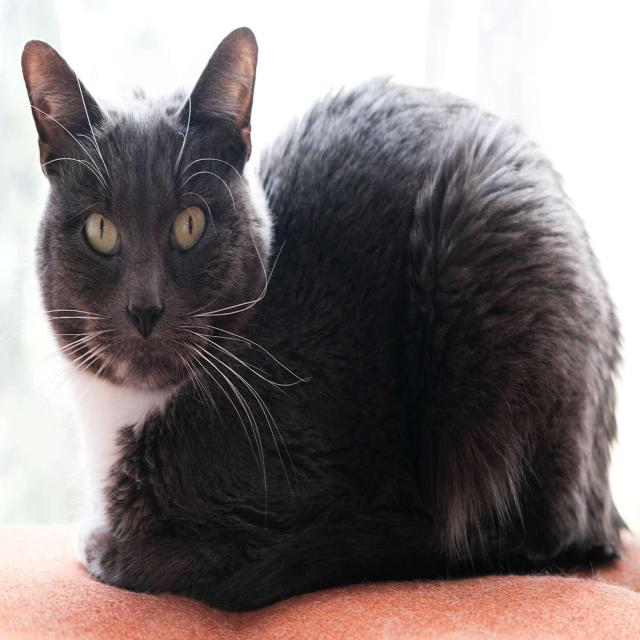Cat: (15, 19, 281, 397)
